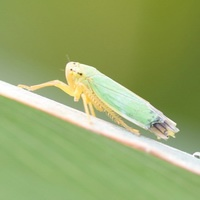insect: (18, 62, 178, 139)
